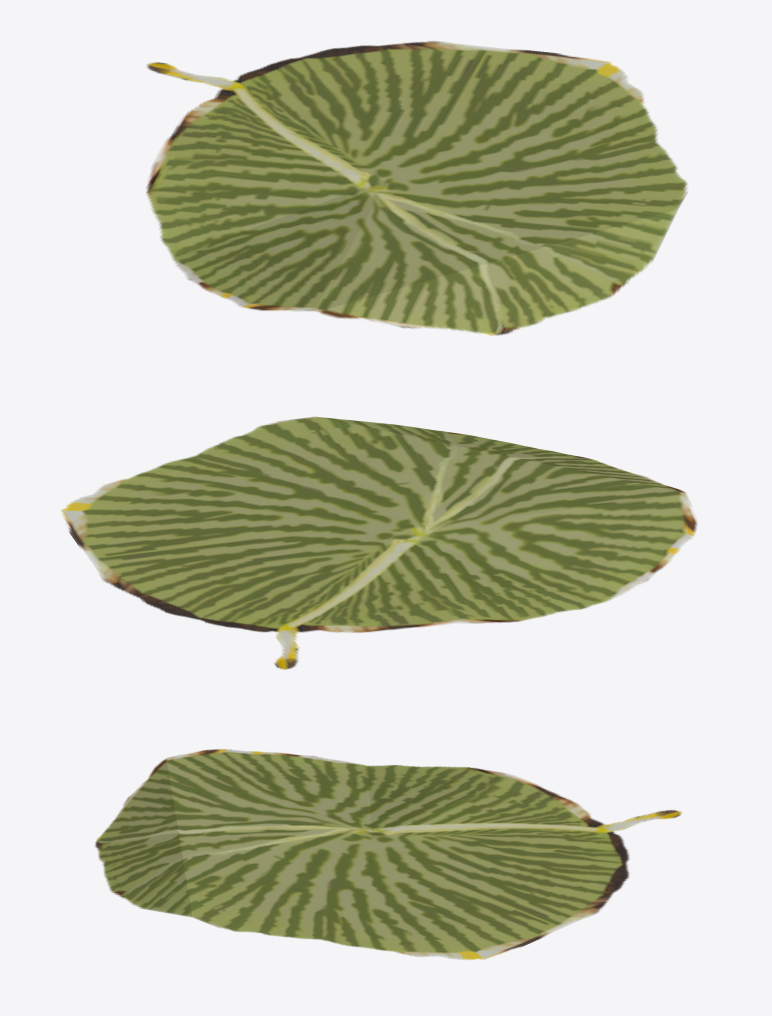
File: WPlant_5_2_Lily_1.gltf
The picture shows the model from 3 angles, top to bottom: view 1: azimuth 30°, elevation 25°; view 2: azimuth 150°, elevation 25°; view 3: azimuth 270°, elevation 25°; orthographic projection. The views are drawn at different scales.
Parts seen in each view (by area): view 1: WPlant_5_2_Lily_1; view 2: WPlant_5_2_Lily_1; view 3: WPlant_5_2_Lily_1.
Part boxes in pixels (bbox=[...]): WPlant_5_2_Lily_1: bbox=[146, 41, 687, 335]; WPlant_5_2_Lily_1: bbox=[61, 416, 696, 669]; WPlant_5_2_Lily_1: bbox=[95, 749, 681, 959].
Size of the model in its own units: 1.16 by 0.0835 by 1.12.
Materials: 1 (1 with a texture image).
